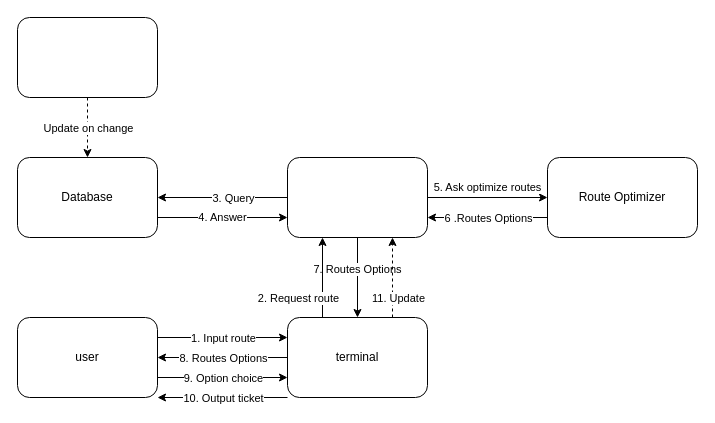
Some shapes in this 715 by 423 pixel diagram are drawn without their labels. The shapes that lost their labels are listed below. From the top down, each one's box as (x1, y1, x2, y2) in pixels, then its label:
(16, 16, 158, 98): tycoon system
(286, 156, 428, 238): Routes management
